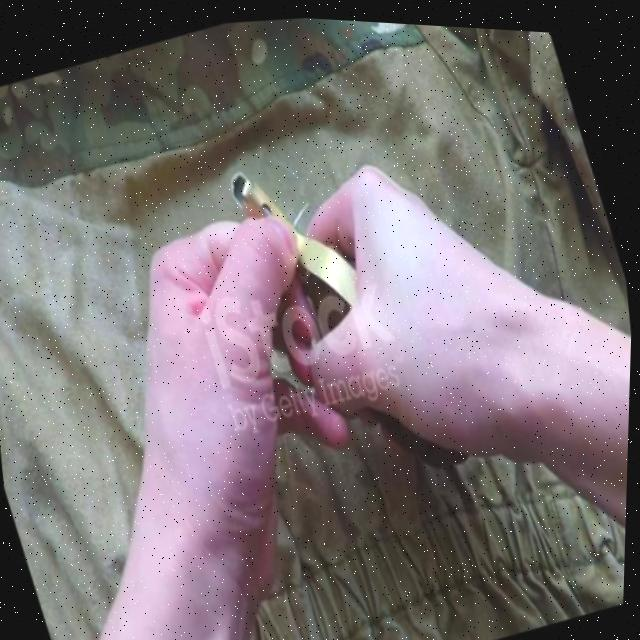grenade: (219, 102, 488, 508)
